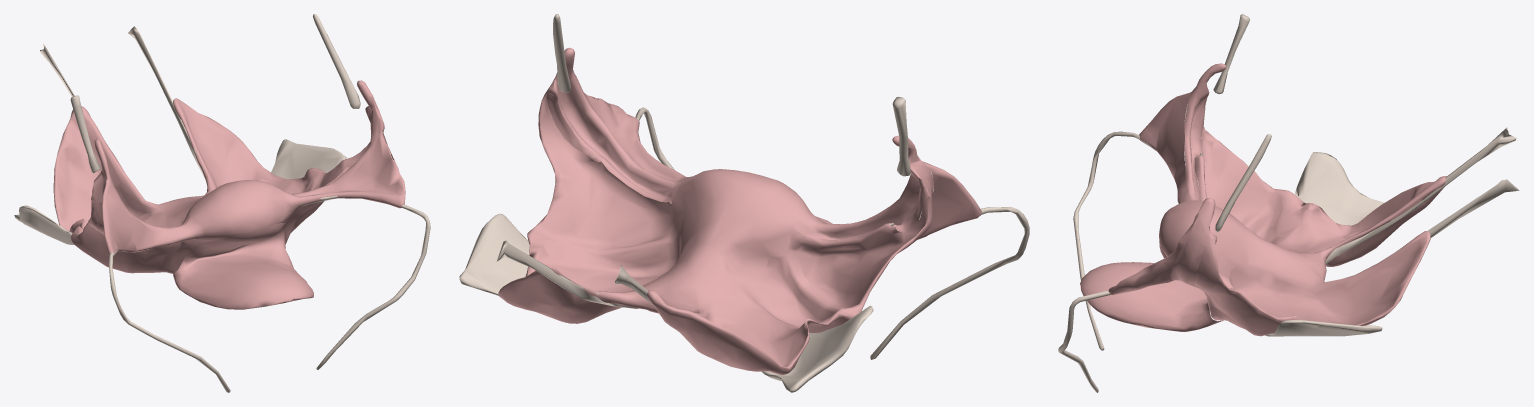
The model's file is uterus_ligaments.glb.
3 renders of one model, left to right at view 1: azimuth 30°, elevation 25°; view 2: azimuth 150°, elevation 25°; view 3: azimuth 270°, elevation 25°, orthographic. The views are drawn at different scales.
Parts seen in each view (by area): view 1: VH_F_uterovesical_pouch, VH_F_right_round_ligament_of_uterus; view 2: VH_F_uterovesical_pouch, VH_F_right_round_ligament_of_uterus; view 3: VH_F_uterovesical_pouch, VH_F_right_round_ligament_of_uterus.
Boxes of the visible parts, x1,y1,x2,y2 form: VH_F_uterovesical_pouch: (53,80,405,309); VH_F_right_round_ligament_of_uterus: (14,14,430,392); VH_F_uterovesical_pouch: (498,47,981,374); VH_F_right_round_ligament_of_uterus: (459,14,1029,392); VH_F_uterovesical_pouch: (1080,63,1446,336); VH_F_right_round_ligament_of_uterus: (1058,14,1519,392).
Bounding box in the file's own units: 0.147 × 0.1233 × 0.1706.
